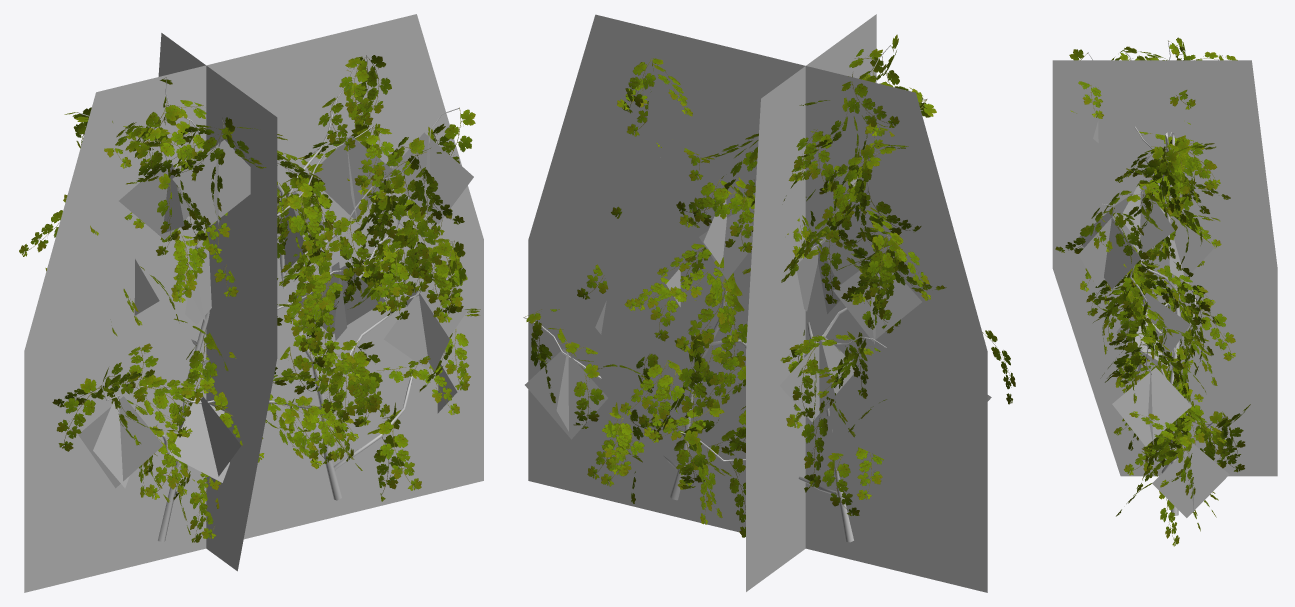
Rendered from Grape_red1.fbx.
3 renders of one model, left to right at view 1: azimuth 30°, elevation 25°; view 2: azimuth 150°, elevation 25°; view 3: azimuth 270°, elevation 25°, orthographic. The views are drawn at different scales.
Visible parts, largest first — view 1: Billboard, LOD0; view 2: Billboard, LOD0; view 3: Billboard, LOD0.
Part boxes in pixels (left/top/right/bottom): Billboard: left=24, top=14, right=483, bottom=592; LOD0: left=19, top=55, right=480, bottom=542; Billboard: left=528, top=14, right=987, bottom=592; LOD0: left=523, top=34, right=1015, bottom=542; Billboard: left=1052, top=60, right=1277, bottom=476; LOD0: left=1055, top=37, right=1250, bottom=546.
Size of what is drawn, in the model's own units: 250 by 246 by 122.
